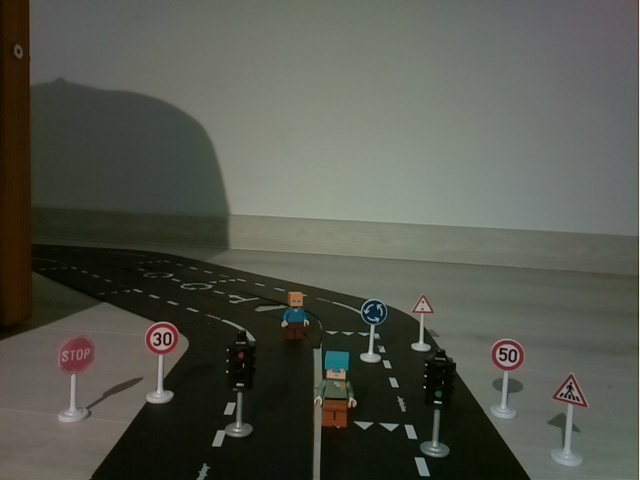green light: (420, 355, 457, 460)
limit 30: (139, 317, 184, 408)
limit 50: (485, 336, 525, 423)
pedestrian sign: (547, 370, 590, 470)
person: (318, 349, 358, 431), (278, 289, 314, 347)
red light: (223, 329, 259, 442)
round: (359, 296, 389, 367)
stop: (54, 332, 102, 429)
traffic light sign: (409, 291, 433, 352)
